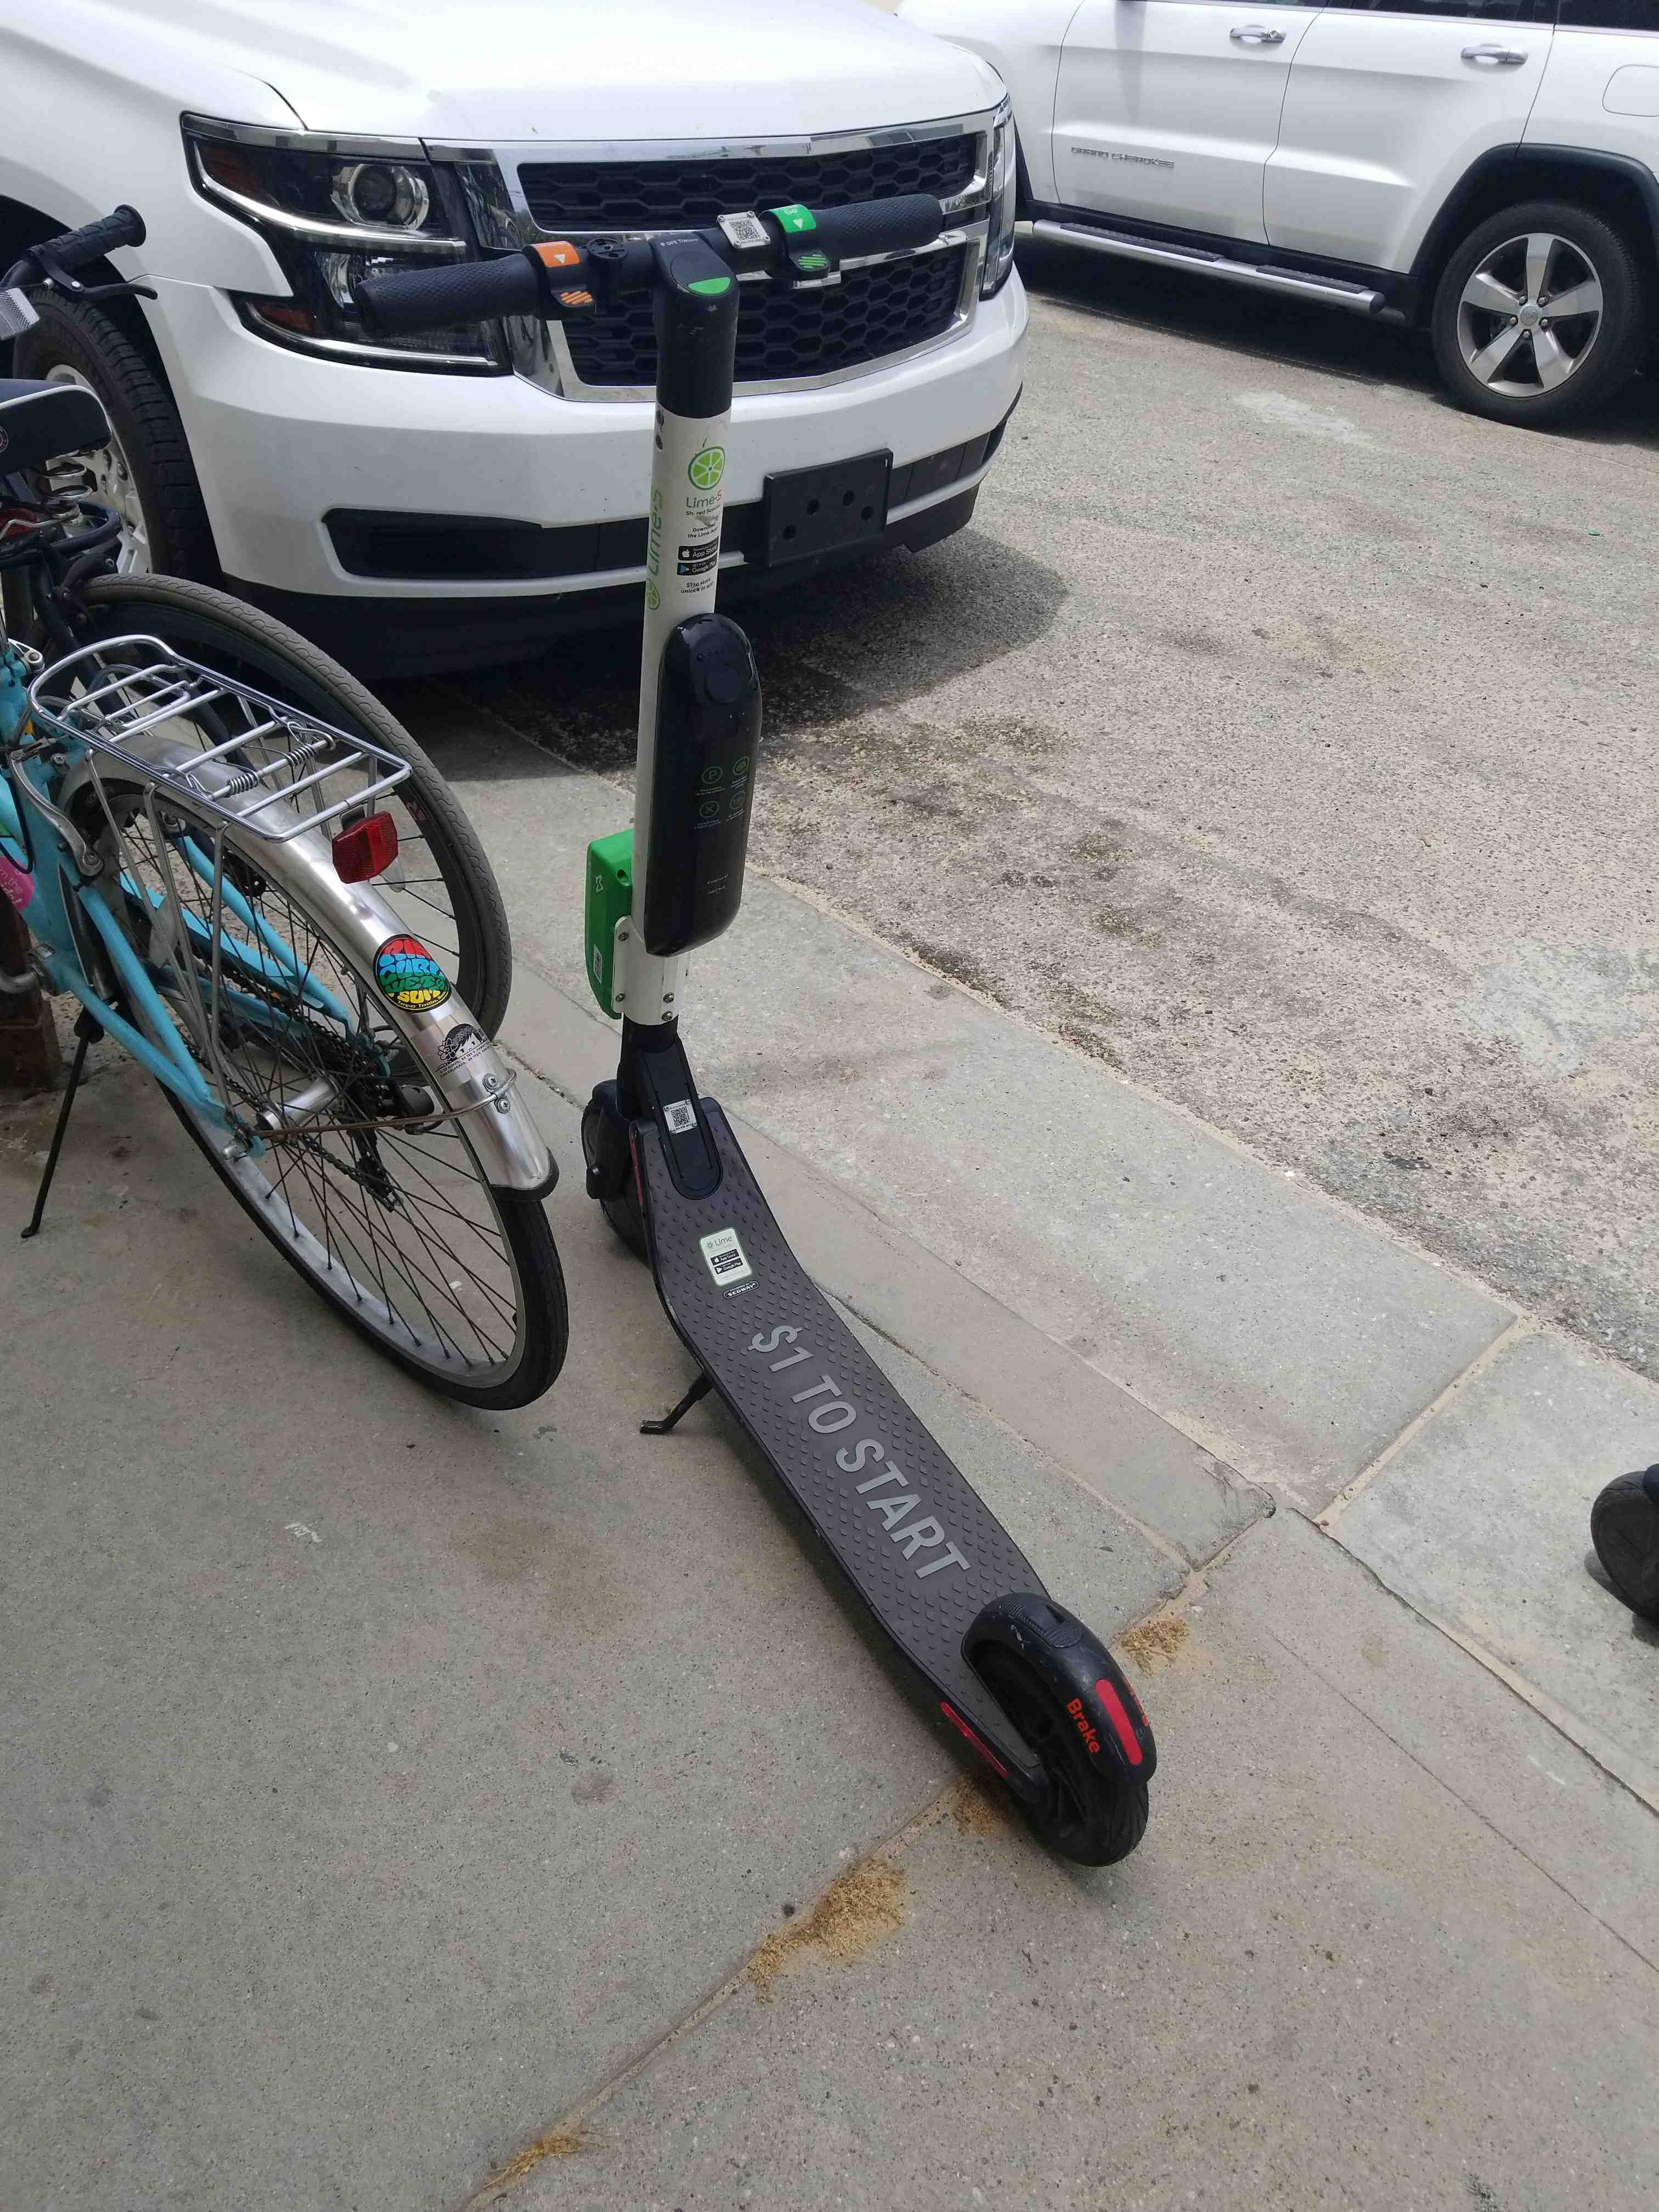scooter: (354, 179, 1176, 1909)
